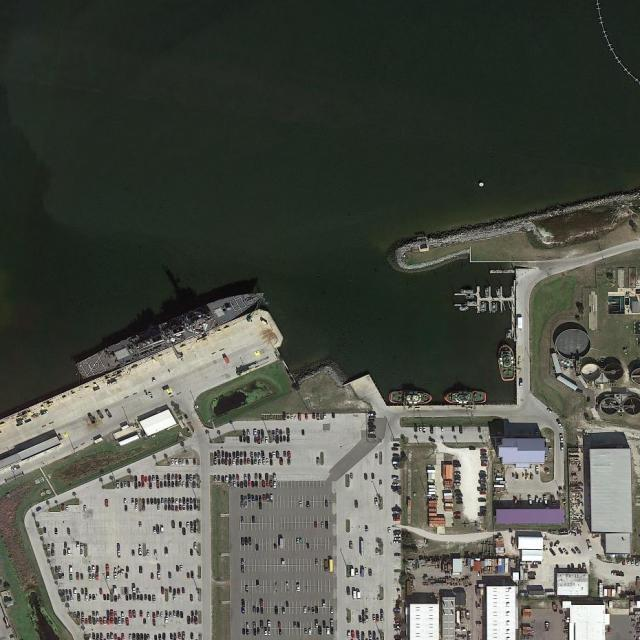Destroyer: (72, 281, 269, 385)
Hovercraft: (444, 390, 487, 405), (498, 345, 515, 382), (390, 390, 433, 404)
Other Warship: (480, 302, 487, 313), (491, 303, 498, 314), (458, 308, 470, 312)
